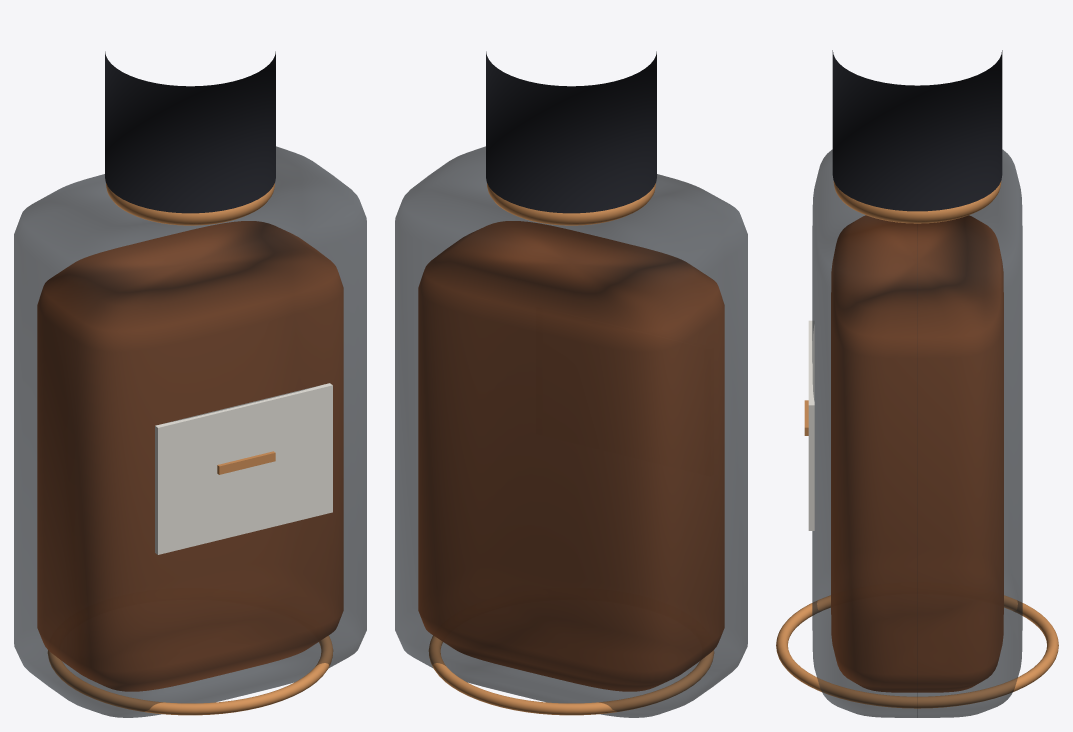
File: memento-obsidian-fixture.glb
The picture shows the model from 3 angles, left to right: view 1: azimuth 30°, elevation 25°; view 2: azimuth 150°, elevation 25°; view 3: azimuth 270°, elevation 25°; orthographic projection.
Parts seen in each view (by area): view 1: Glass shell, Amber liquid, Ledger label, Obsidian cap, Copper base, Copper collar, Memento mark; view 2: Glass shell, Amber liquid, Obsidian cap, Copper base, Copper collar; view 3: Glass shell, Amber liquid, Obsidian cap, Copper base, Copper collar, Ledger label.
Part boxes in pixels (left/top/right/bottom): Glass shell: left=14, top=146, right=366, bottom=717; Amber liquid: left=37, top=221, right=343, bottom=691; Ledger label: left=155, top=383, right=332, bottom=554; Obsidian cap: left=105, top=51, right=275, bottom=213; Copper base: left=47, top=635, right=333, bottom=715; Copper collar: left=106, top=183, right=274, bottom=225; Memento mark: left=217, top=451, right=275, bottom=474; Glass shell: left=395, top=146, right=747, bottom=717; Amber liquid: left=418, top=221, right=724, bottom=691; Obsidian cap: left=486, top=51, right=656, bottom=213; Copper base: left=428, top=635, right=714, bottom=715; Copper collar: left=487, top=183, right=655, bottom=225; Glass shell: left=812, top=149, right=1022, bottom=717; Amber liquid: left=831, top=215, right=1003, bottom=692; Obsidian cap: left=832, top=50, right=1002, bottom=211; Copper base: left=776, top=595, right=1058, bottom=708; Copper collar: left=833, top=181, right=1001, bottom=223; Ledger label: left=808, top=320, right=814, bottom=530.
Size of the model in its own units: 2 by 3.98 by 1.67.
